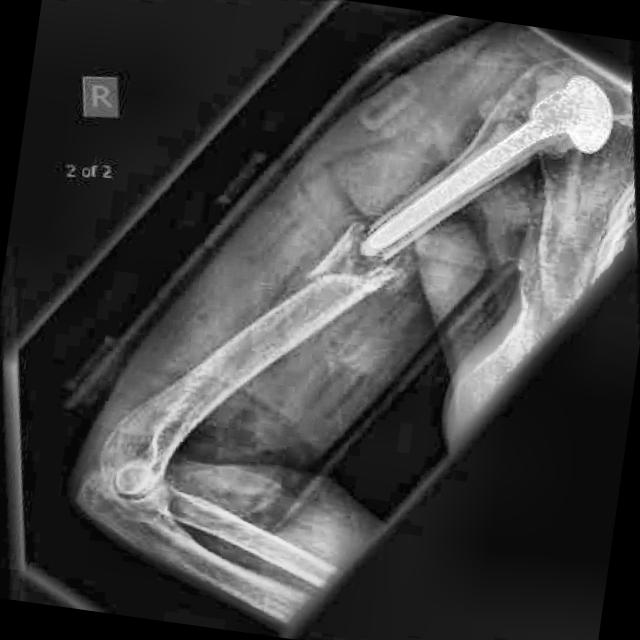humerus: (256, 170, 463, 349)
